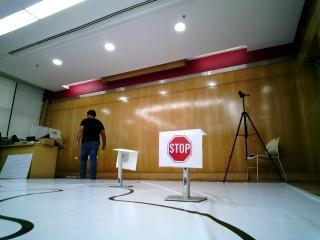stop: (154, 137, 207, 169)
